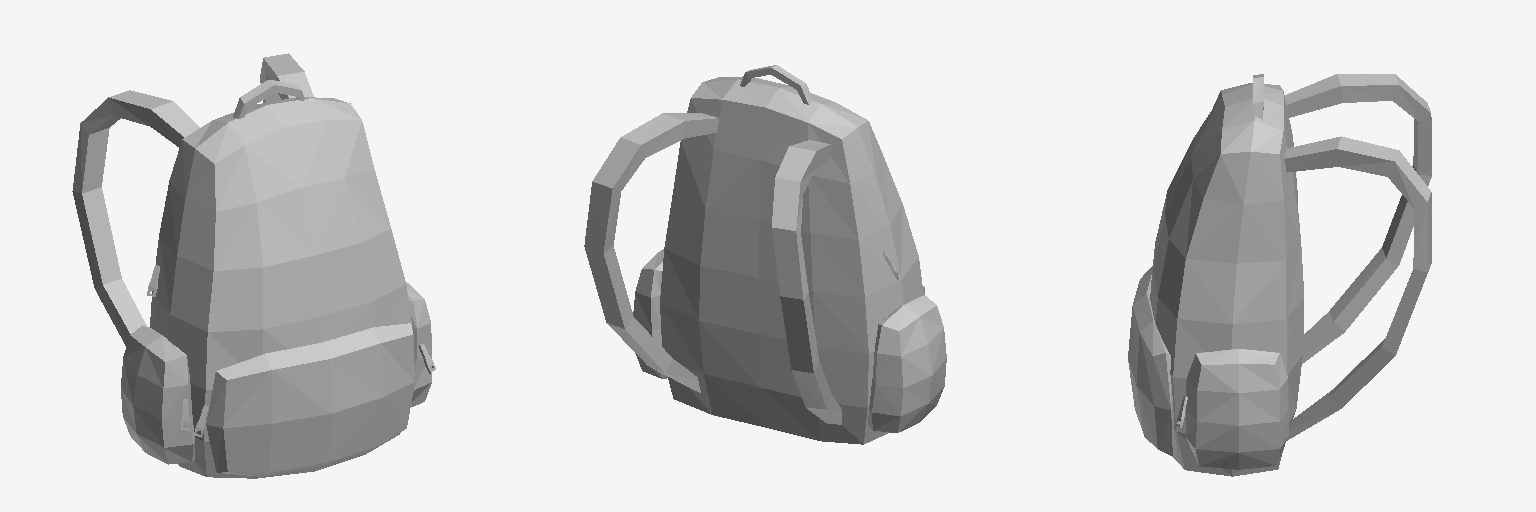
Rendered from backpack.OBJ.
3 renders of one model, left to right at view 1: azimuth 30°, elevation 25°; view 2: azimuth 150°, elevation 25°; view 3: azimuth 270°, elevation 25°, orthographic.
Parts seen in each view (by area): view 1: Group64531, Group8351, Group3344; view 2: Group64531, Group8351; view 3: Group64531, Group8351.
Part boxes in pixels (x1,y1,x2,y2): Group64531: (121, 97, 431, 478); Group8351: (72, 53, 313, 345); Group3344: (147, 265, 435, 437); Group64531: (633, 77, 946, 444); Group8351: (584, 65, 841, 424); Group64531: (1128, 83, 1303, 476); Group8351: (1253, 74, 1431, 440).
Size of the model in its own units: 1.89 by 2.28 by 1.74.